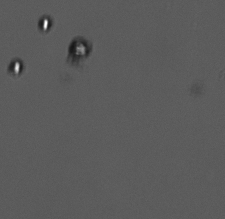Dead Cell: (66, 35, 95, 59)
Living Cell: (7, 58, 23, 76), (37, 14, 53, 32)
